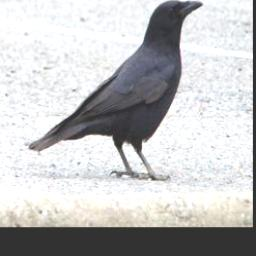Crow: (27, 0, 203, 181)
